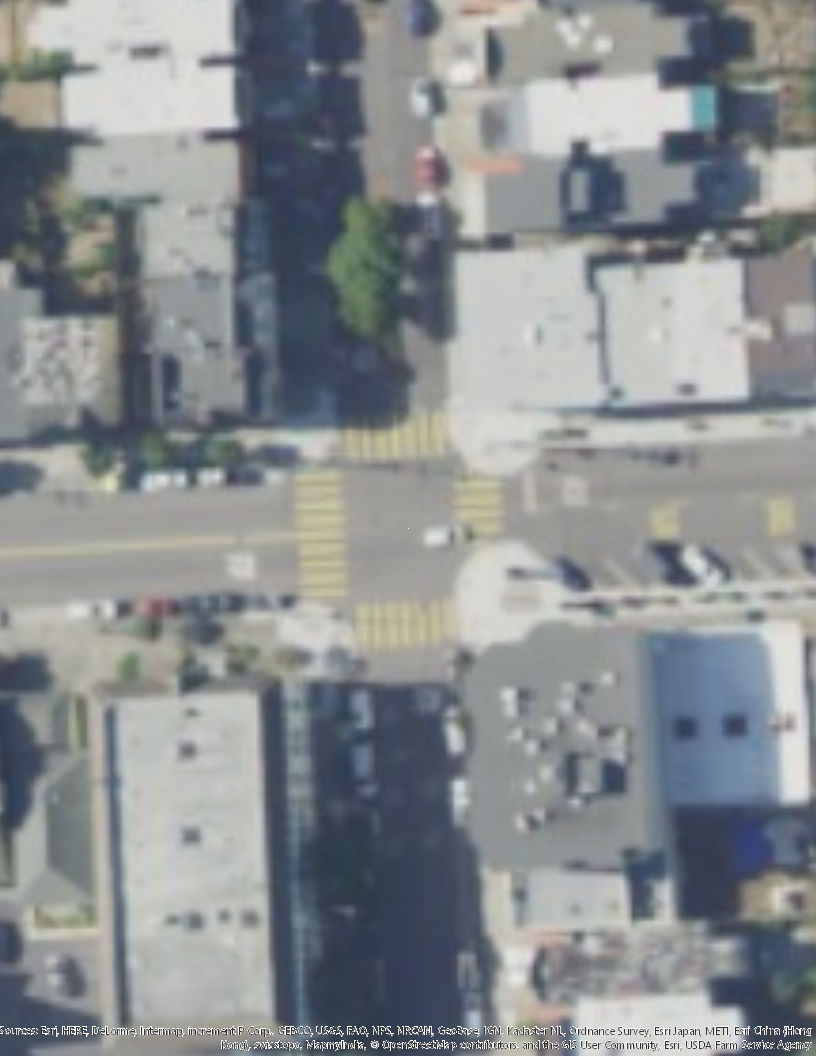zebracross: (297, 467, 346, 601), (336, 409, 451, 461), (356, 597, 453, 650), (456, 473, 506, 538)
